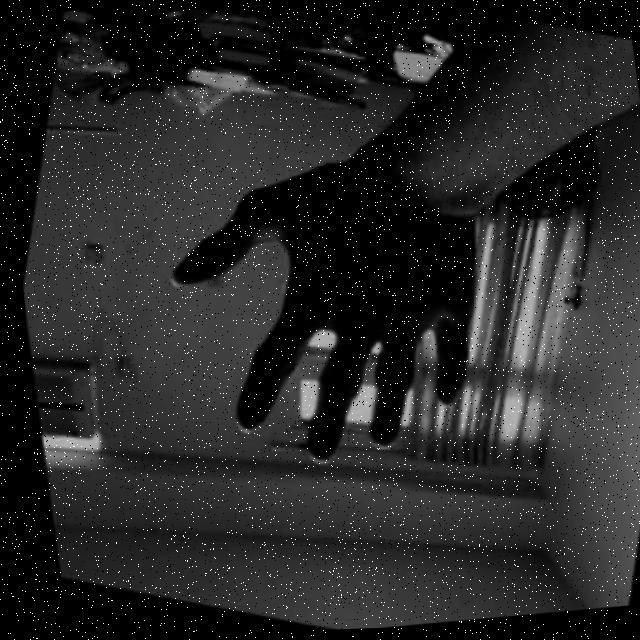no-gloves: (149, 153, 504, 480)
